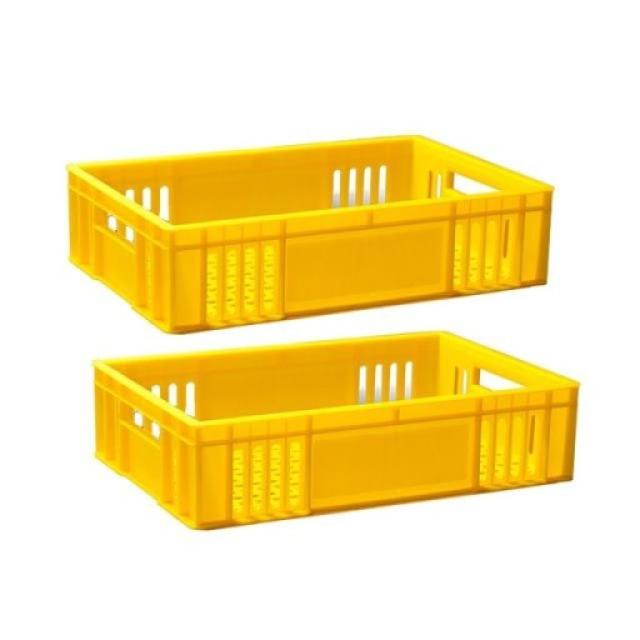basket: (84, 299, 592, 543), (60, 114, 565, 344)
